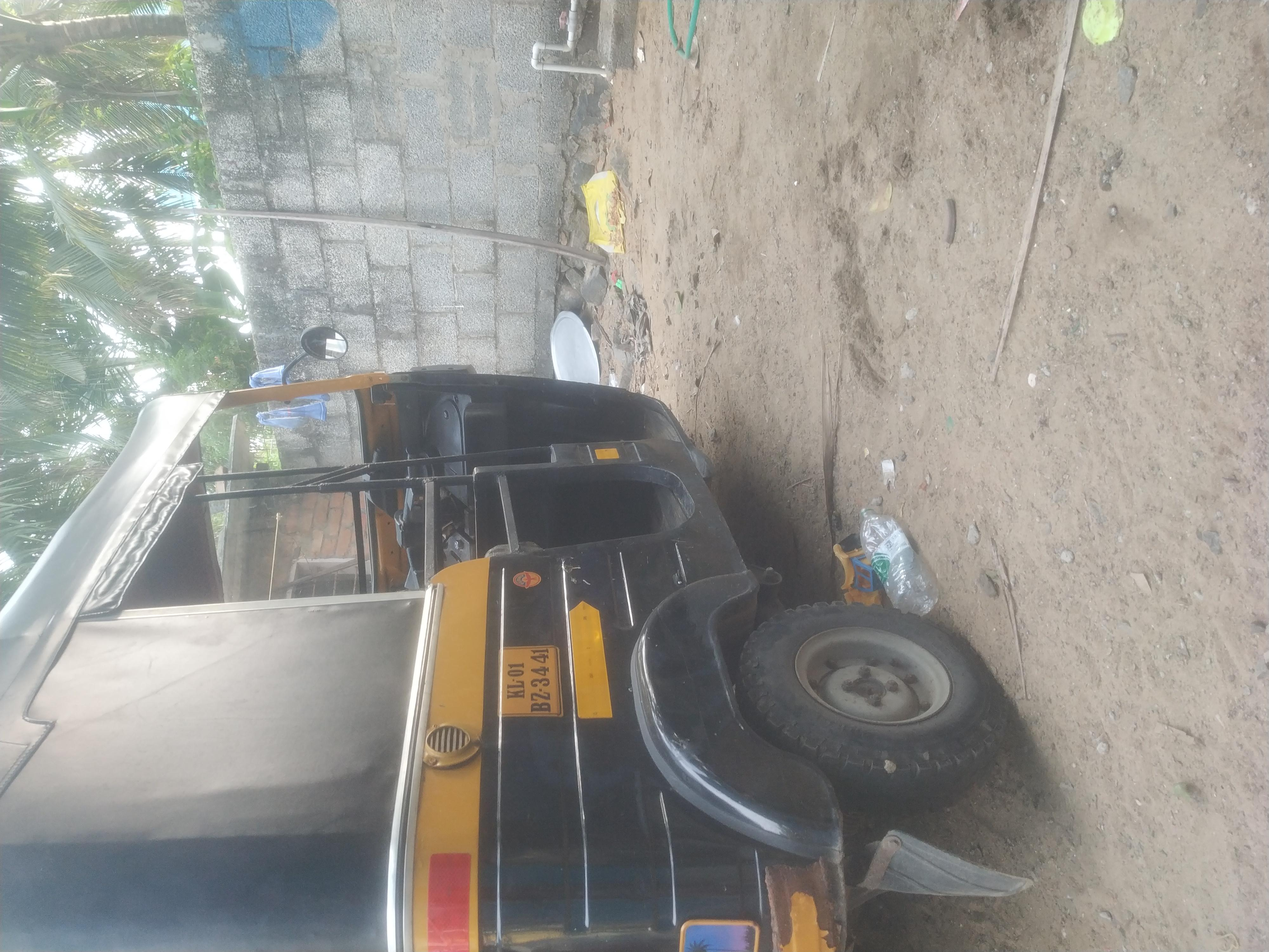Auto: (0, 1, 842, 776)
